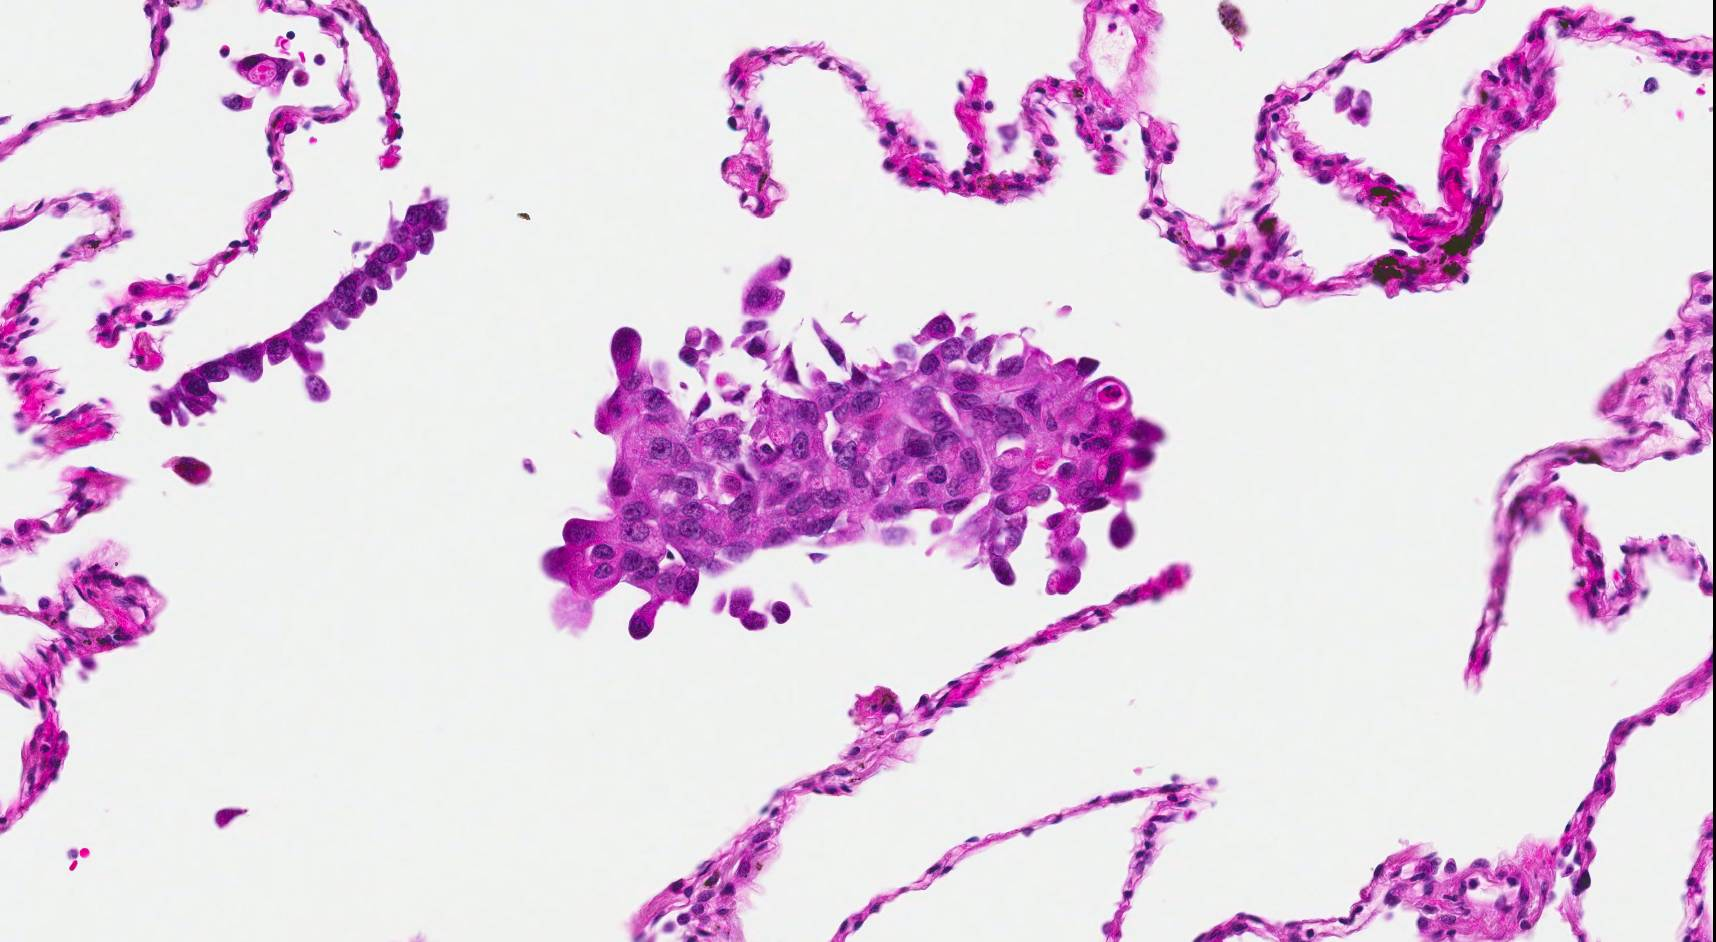stas: (534, 255, 1167, 644), (144, 184, 454, 426), (211, 44, 313, 111)
